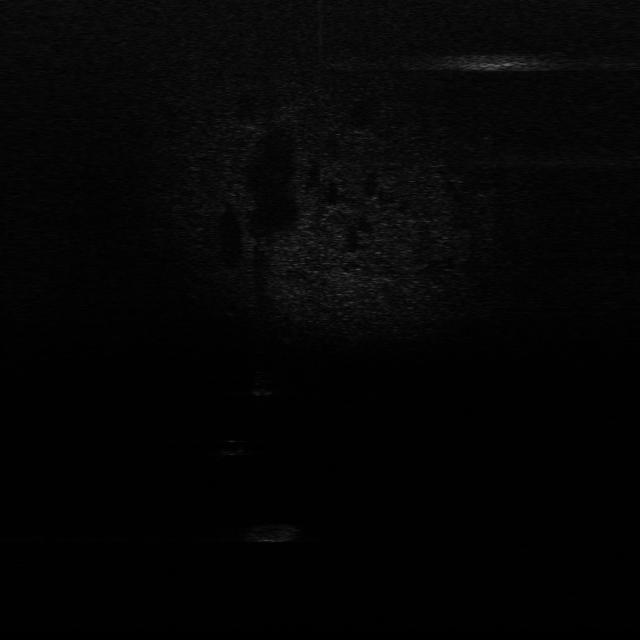ball: (217, 436, 248, 457)
circle cage: (244, 524, 300, 542)
human body: (252, 369, 276, 409)
